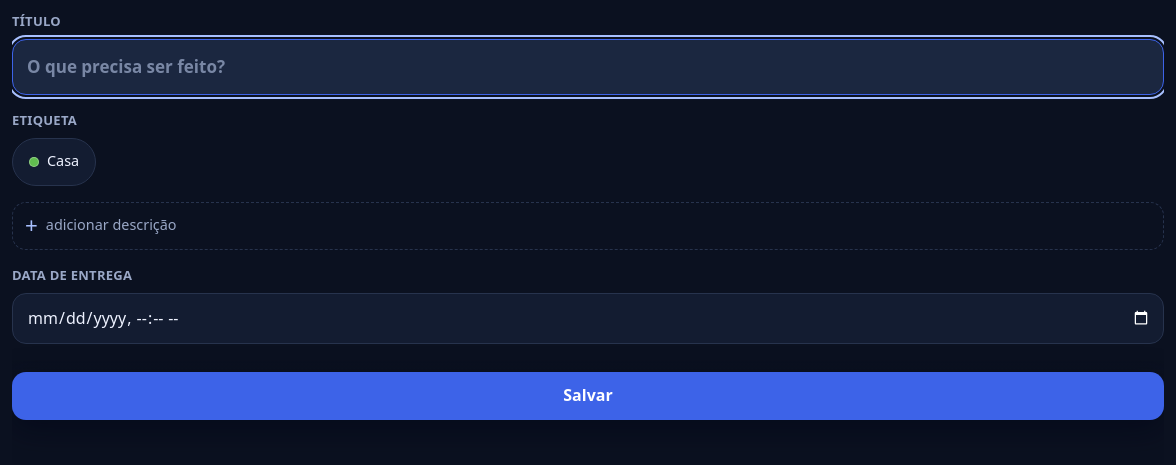
Scenario: CardForm › shows an error when title is empty
Click the button "Salvar" at [588, 396], box [12, 372, 1164, 420]
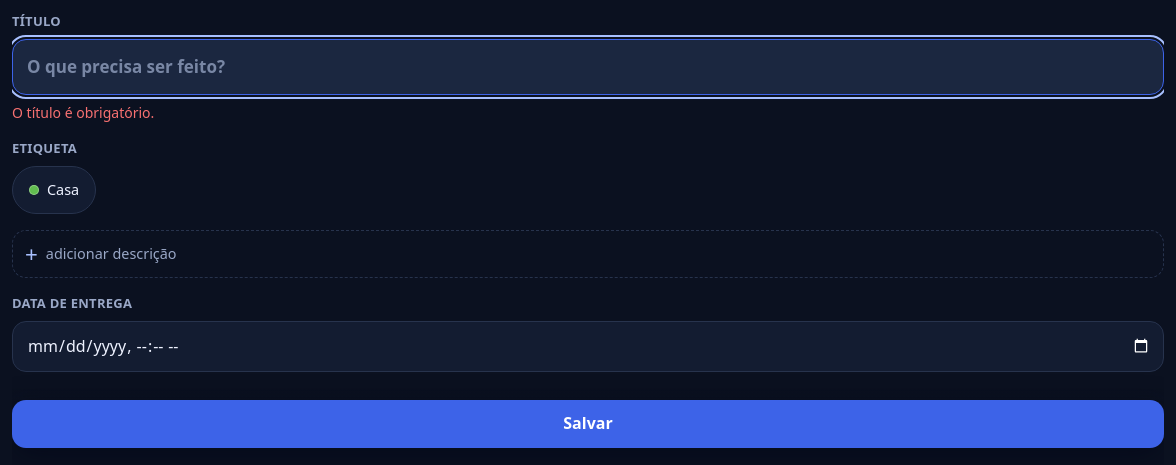
Now the message reads "O título é obrigatório.", box [12, 103, 154, 122]
